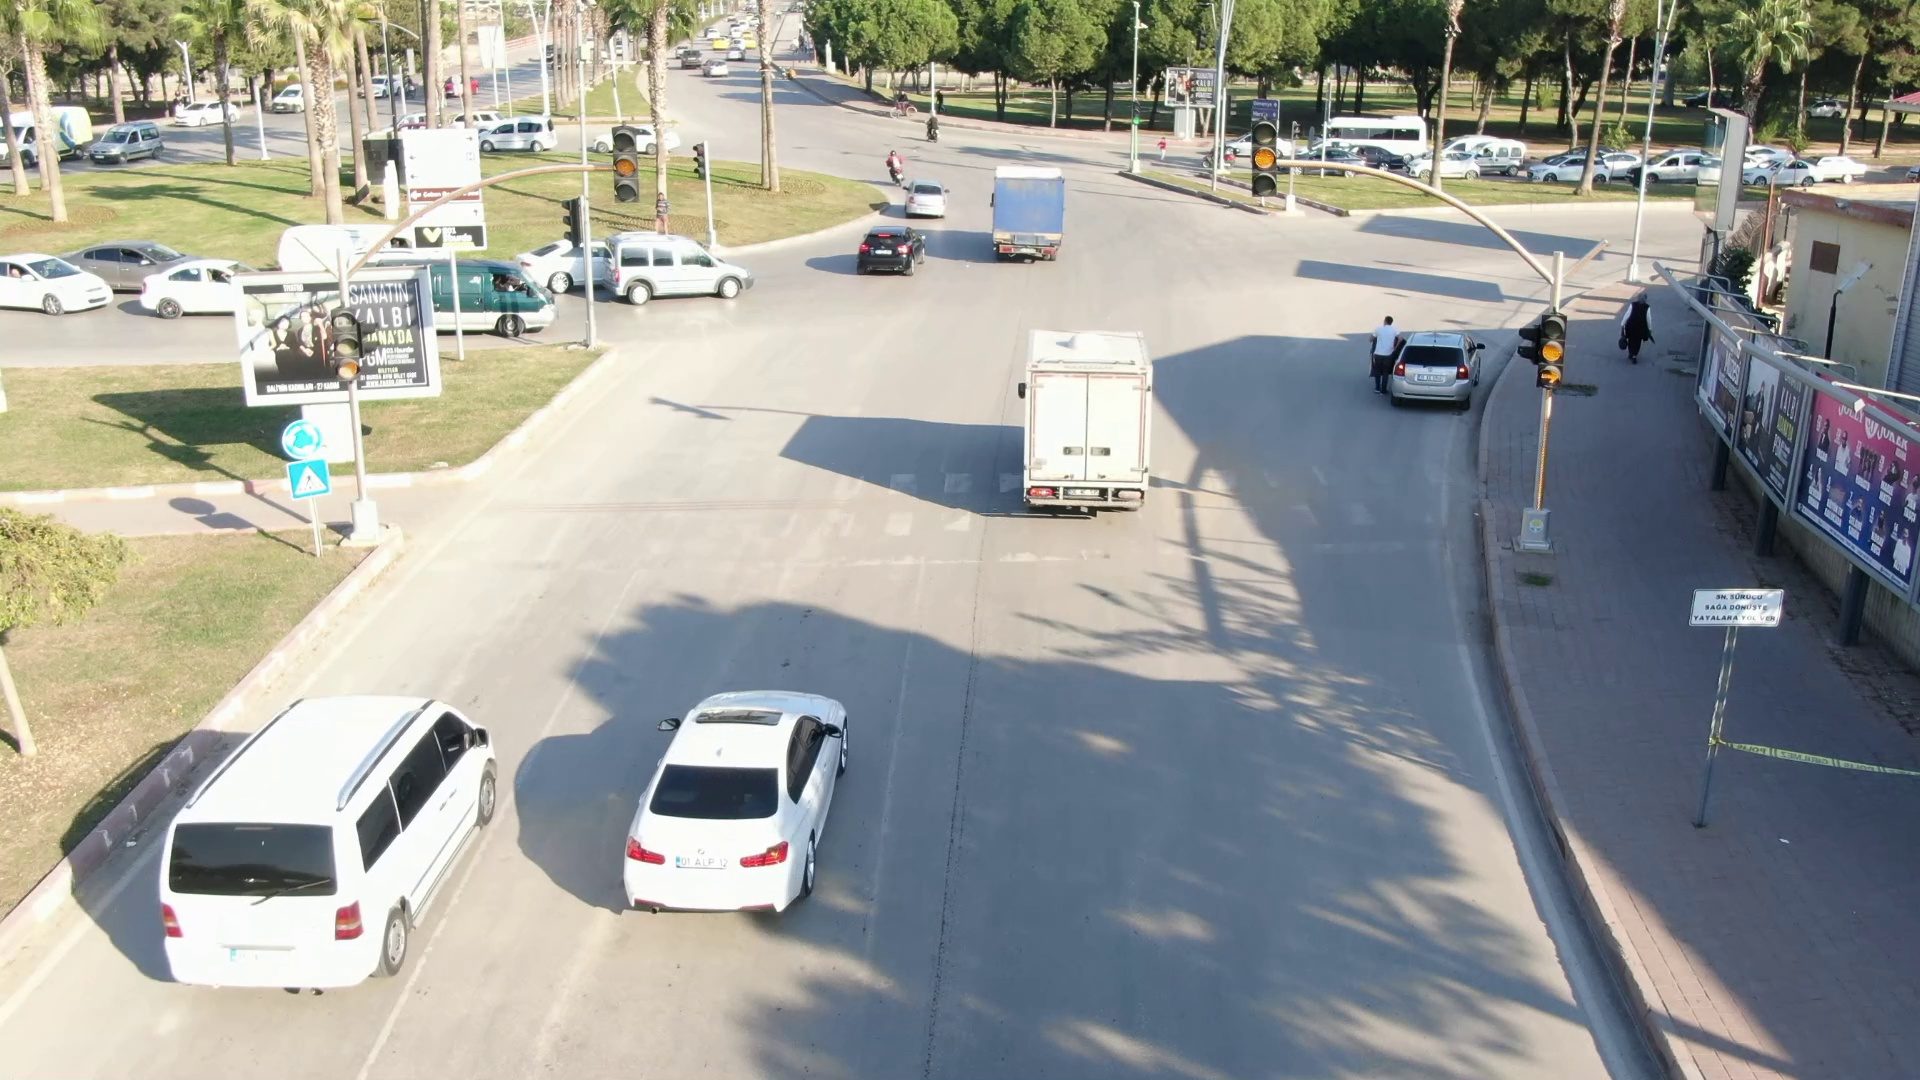car: (145, 654, 517, 1028), (601, 663, 865, 936), (993, 318, 1183, 528), (599, 227, 762, 310), (972, 159, 1083, 273), (1, 242, 136, 321), (1393, 329, 1489, 414), (852, 218, 943, 285), (895, 176, 954, 221)
person: (1608, 285, 1660, 368), (1366, 309, 1398, 402)
